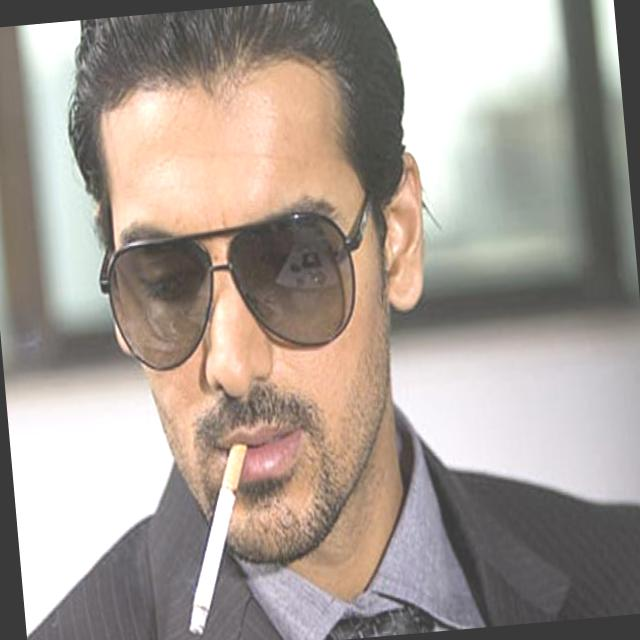smoke: (161, 416, 264, 640)
